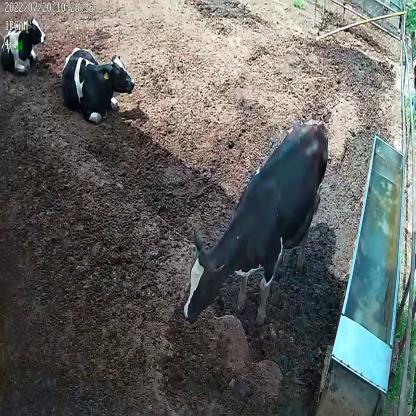cow: (179, 114, 331, 348), (61, 43, 135, 124), (0, 13, 46, 73)
